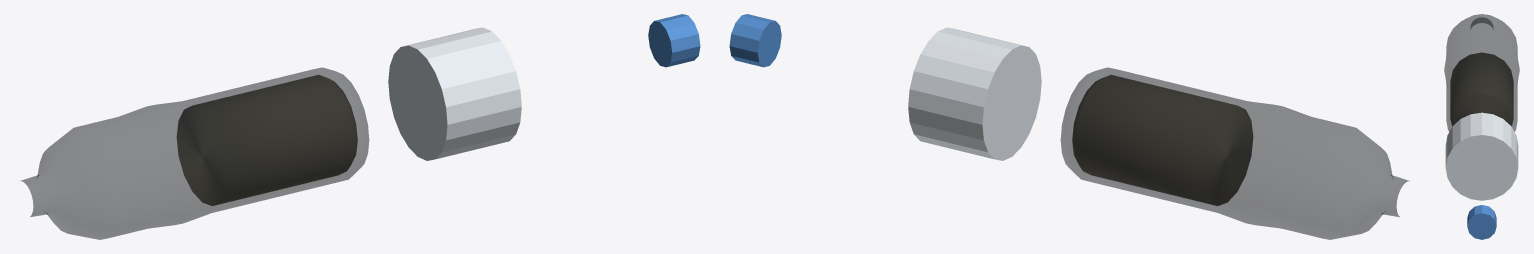
Rendered from wren_water_bottle_a.glb.
3 views of the same model, side by side, from view 1: azimuth 30°, elevation 25°; view 2: azimuth 150°, elevation 25°; view 3: azimuth 270°, elevation 25° (orthographic). The views are drawn at different scales.
Parts seen in each view (by area): view 1: body; view 2: body; view 3: body.
Boxes of the visible parts, x1=… form: body: x1=21, y1=14, x2=700, y2=239; body: x1=729, y1=14, x2=1408, y2=239; body: x1=1444, y1=14, x2=1519, y2=239.
Size of the model in its own units: 0.447 by 0.072 by 0.072.
